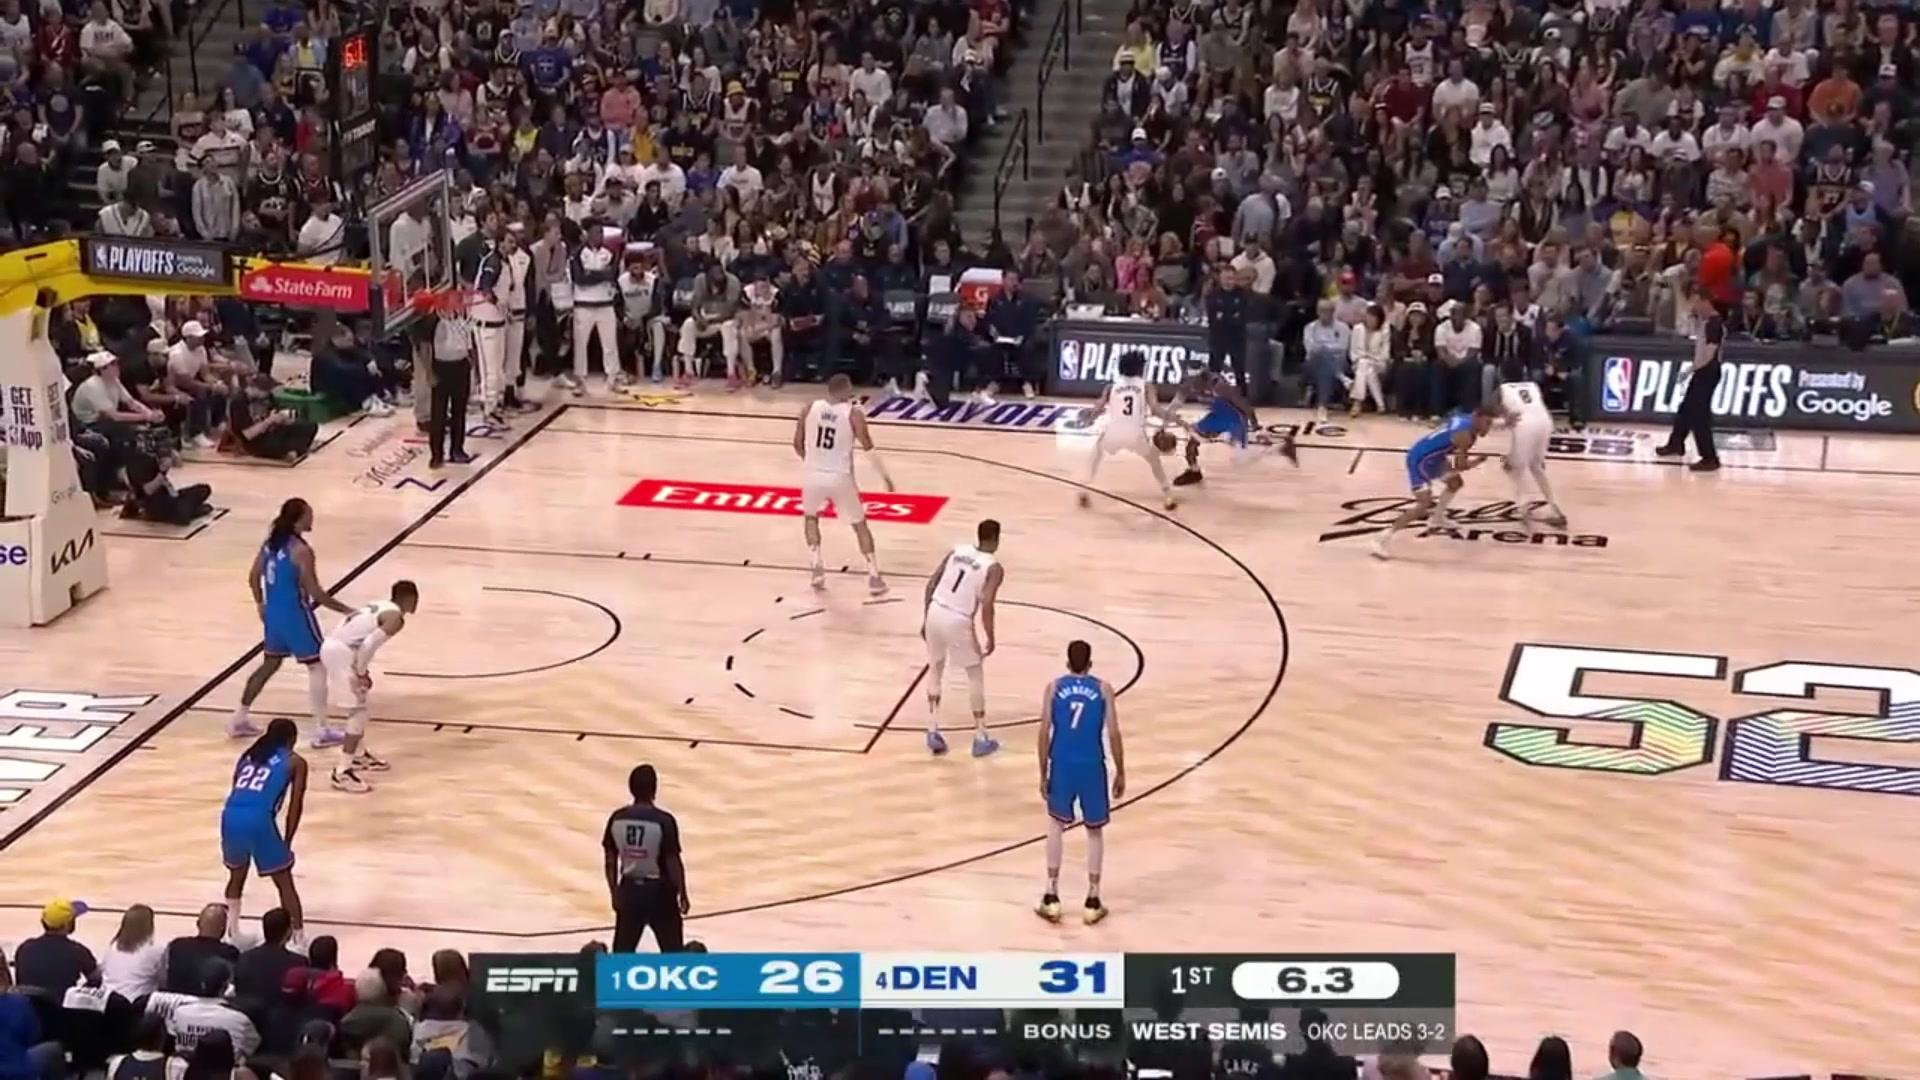foul: (1404, 342, 1589, 563)
